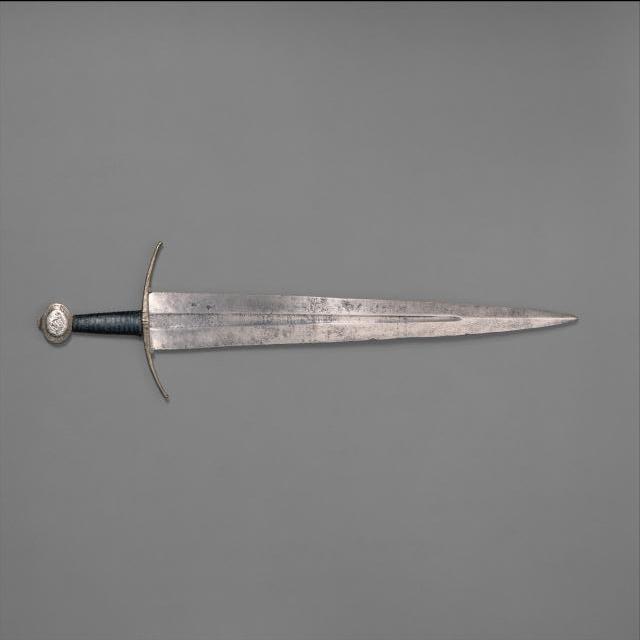sword: (37, 240, 582, 405)
